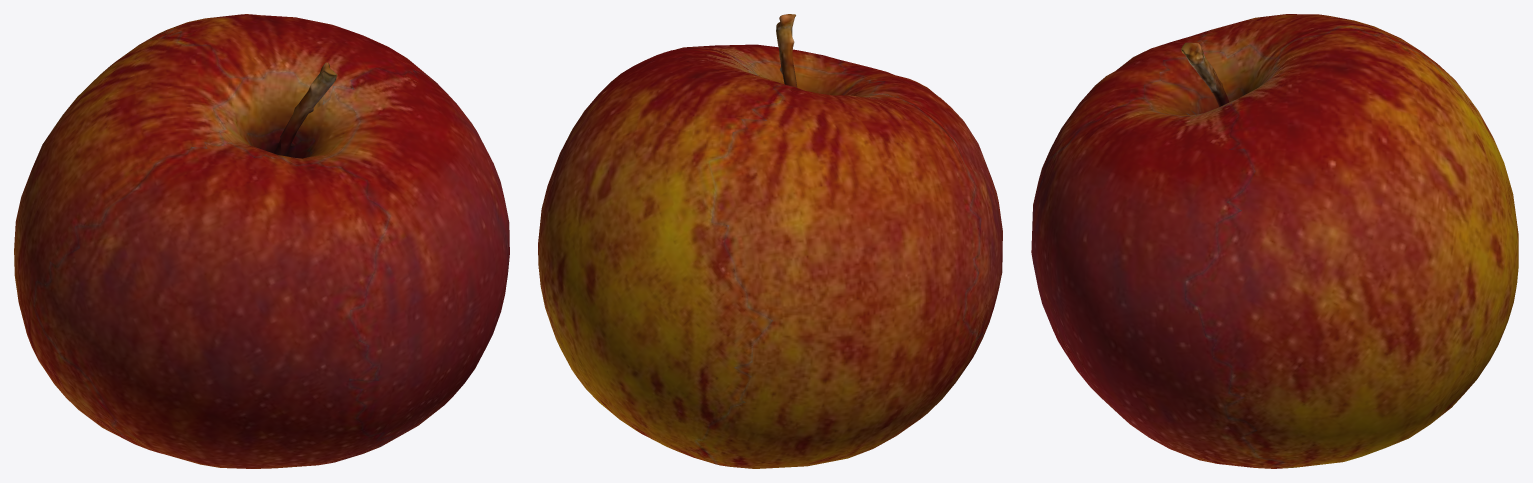
File: food_apple_01.glb
3 views of the same model, side by side, from view 1: azimuth 30°, elevation 25°; view 2: azimuth 150°, elevation 25°; view 3: azimuth 270°, elevation 25° (orthographic). The views are drawn at different scales.
Parts seen in each view (by area): view 1: food_apple_01; view 2: food_apple_01; view 3: food_apple_01.
Part boxes in pixels (x1,y1,x2,y2): food_apple_01: [14, 14, 509, 468]; food_apple_01: [538, 14, 1002, 468]; food_apple_01: [1031, 14, 1518, 468].
Size of the model in its own units: 0.0976 by 0.0854 by 0.0958.
1 material, 1 textured.
